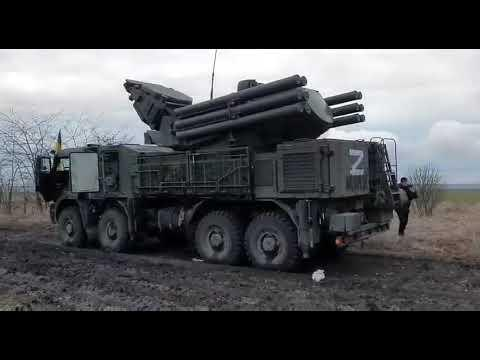truck: (27, 66, 419, 298)
